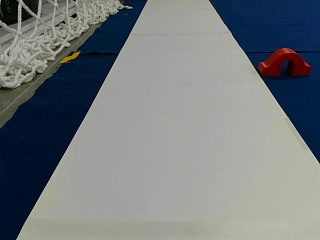bridge: (260, 48, 310, 74)
